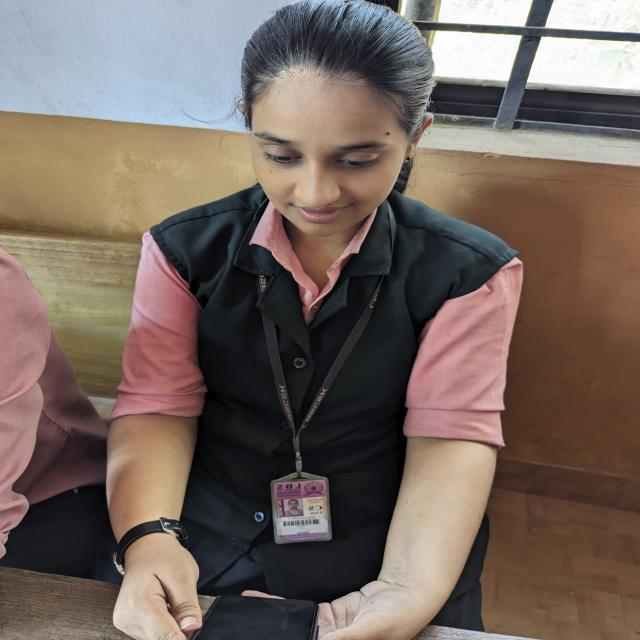id_card: (254, 212, 386, 546)
